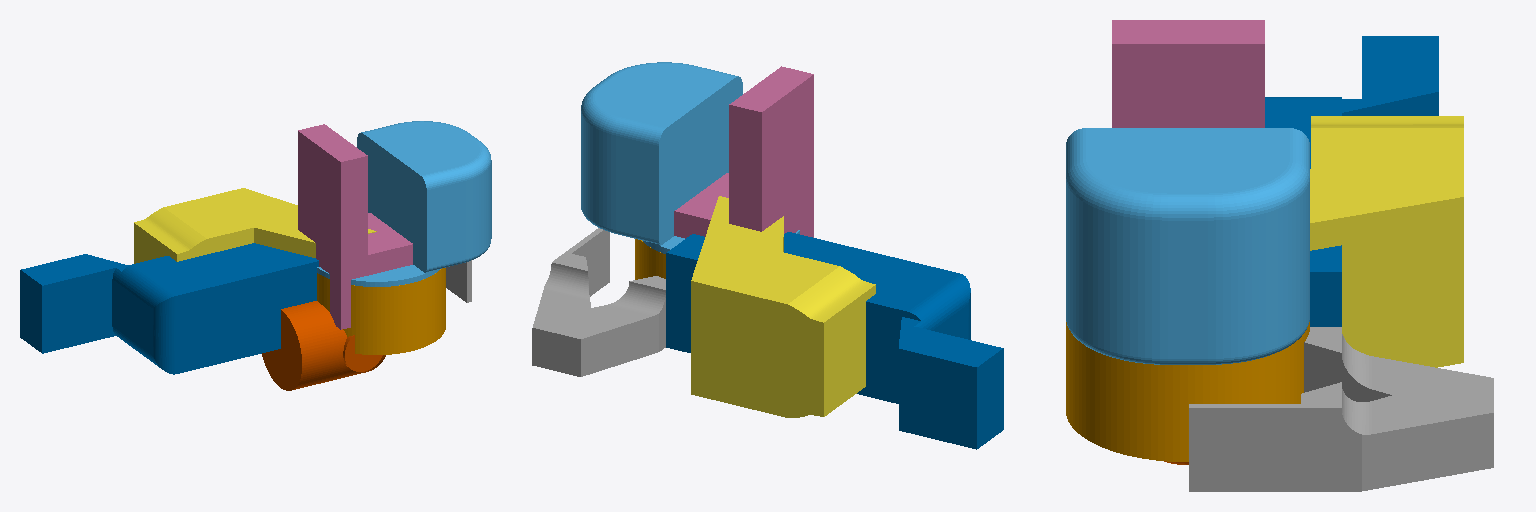
robot.urdf — spot_arm:
<?xml version="1.0" encoding="utf-8"?>
<robot name="spot_arm">

    <link name="b0">
      <visual>
        <geometry>
          <mesh filename="package://my_spot/description/meshes/B0.dae" />
        </geometry>
      </visual>
      <collision>
	<geometry>
	  <mesh filename="package://my_spot/description/meshes/B0.stl"/>
	</geometry>
      </collision>
    </link>

    <link name="base">
      <visual>
        <geometry>
          <mesh filename="package://my_spot/description/meshes/Base.dae" />
        </geometry>
      </visual>
      <collision>
	<geometry>
	  <mesh filename="package://my_spot/description/meshes/Base.stl"/>
	</geometry>
      </collision>
    </link>

    <link name="part1">
      <collision>
	<geometry>
	  <mesh filename="package://my_spot/description/meshes/Part1.stl"/>
	</geometry>
      </collision>
    </link>

   <link name="part2">
      <visual>
        <geometry>
          <mesh filename="package://my_spot/description/meshes/Part2.dae" />
        </geometry>
      </visual>
      <collision>
	<geometry>
	  <mesh filename="package://my_spot/description/meshes/Part2.stl"/>
	</geometry>
      </collision>
    </link>

   <link name="part3">
      <visual>
        <geometry>
          <mesh filename="package://my_spot/description/meshes/Part3.dae" />
        </geometry>
      </visual>
      <collision>
	<geometry>
	  <mesh filename="package://my_spot/description/meshes/Part3.stl"/>
	</geometry>
      </collision>
    </link>

   <link name="part4">
      <visual>
        <geometry>
          <mesh filename="package://my_spot/description/meshes/Part4.dae" />
        </geometry>
      </visual>
      <collision>
	<geometry>
	  <mesh filename="package://my_spot/description/meshes/Part4.stl"/>
	</geometry>
      </collision>
    </link>

   <link name="gripper">
      <visual>
        <geometry>
          <mesh filename="package://my_spot/description/meshes/Gripper.dae" />
        </geometry>
      </visual>
      <collision>
	<geometry>
	  <mesh filename="package://my_spot/description/meshes/Gripper.stl"/>
	</geometry>
      </collision>
    </link>

   <link name="finger">
      <visual>
        <geometry>
          <mesh filename="package://my_spot/description/meshes/Finger.dae" />
        </geometry>
      </visual>
      <collision>
	<geometry>
	  <mesh filename="package://my_spot/description/meshes/Finger.stl"/>
	</geometry>
      </collision>
    </link>

    <joint name="b0_to_base" type="revolute">
      <parent link="b0"/>
      <child link="base"/>
      <axis xyz="0 0 1" />
      <origin xyz="0.0 0.0 0.047" rpy="0 0 0" />
      <limit effort="900" velocity="900.00" lower="-2.61799" upper="3.14159"/>
    </joint>

    <joint name="base_to_upper_arm" type="revolute">
      <parent link="base"/>
      <child link="part1"/>
      <axis xyz="0 0 1" />
      <origin xyz="0.0 0.0 0.065" rpy="0 -1.5708 0" />
      <limit effort="900" velocity="900.00" lower="-3.14159" upper="0.523599"/>
    </joint>

    <joint name="upper_arm_to_shoulder" type="revolute">
      <parent link="part1"/>
      <child link="part2"/>
      <axis xyz="0 0 1" />
      <origin xyz="0.0 0.34 0.0" rpy="0 0 0" />
      <limit effort="900" velocity="900.00" lower="0.0" upper="3.14159"/>
    </joint>

    <joint name="shoulder_to_forearm" type="revolute">
      <parent link="part2"/>
      <child link="part3"/>
      <axis xyz="0 0 1" />
      <origin xyz="0.132 0.083 0.0" rpy="0 1.5708 0" />
      <limit effort="900" velocity="900.00" lower="-2.79253" upper="2.79253"/>
    </joint>

    <joint name="forearm_to_wrist" type="revolute">
      <parent link="part3"/>
      <child link="part4"/>
      <axis xyz="0 0 1" />
      <origin xyz="-0.05 0.0 0.26" rpy="0 -1.5708 0" />
      <limit effort="900" velocity="900.00" lower="-1.8326" upper="1.8326"/>
    </joint>

    <joint name="wrist_to_gripper" type="revolute">
      <parent link="part4"/>
      <child link="gripper"/>
      <axis xyz="0 0 1" />
      <origin xyz="0.07 0.0 -0.05" rpy="0 1.5708 0" />
      <limit effort="900" velocity="900.00" lower="-2.87979" upper="2.87979"/>
    </joint>

    <joint name="gripper_to_finger" type="revolute">
      <parent link="gripper"/>
      <child link="finger"/>
      <axis xyz="0 0 1" />
      <origin xyz="0.19557 0.0 0.0" rpy="-1.5708 0 0" />
      <limit effort="900" velocity="900.00" lower="-1.5708" upper="0.0"/>
    </joint>

</robot>

--- What the picture shows (computed from the rendered views, not written in the file) ---
The picture shows the robot from 3 angles, left to right: view 1: azimuth 30°, elevation 25°; view 2: azimuth 150°, elevation 25°; view 3: azimuth 270°, elevation 25°; orthographic projection.
Model spot_arm with 8 links and 7 joints (7 revolute), rooted at b0, posed every joint at zero.
Links seen in each view (by area): view 1: part3, base, gripper, part2, b0, part4, finger; view 2: part2, part3, base, gripper, finger, b0; view 3: base, finger, part2, b0, gripper, part3.
Boxes of the visible links, x1=… form: part3: x1=20, y1=243, x2=318, y2=374; base: x1=317, y1=121, x2=491, y2=286; gripper: x1=298, y1=124, x2=412, y2=329; part2: x1=134, y1=188, x2=376, y2=263; b0: x1=317, y1=268, x2=445, y2=354; part4: x1=262, y1=301, x2=385, y2=390; finger: x1=446, y1=260, x2=471, y2=302; part2: x1=691, y1=196, x2=875, y2=417; part3: x1=666, y1=232, x2=1003, y2=449; base: x1=581, y1=62, x2=799, y2=253; gripper: x1=674, y1=66, x2=813, y2=238; finger: x1=532, y1=228, x2=665, y2=376; b0: x1=635, y1=239, x2=665, y2=279; base: x1=1066, y1=128, x2=1309, y2=364; finger: x1=1189, y1=327, x2=1493, y2=491; part2: x1=1310, y1=116, x2=1463, y2=367; b0: x1=1066, y1=322, x2=1309, y2=461; gripper: x1=1112, y1=20, x2=1264, y2=127; part3: x1=1265, y1=36, x2=1438, y2=326.
Size in the robot's own frame: 386 by 210 by 222 metres.
Meshes: 7 distinct files referenced, 7 mesh visuals loaded (7 Collada DAE).